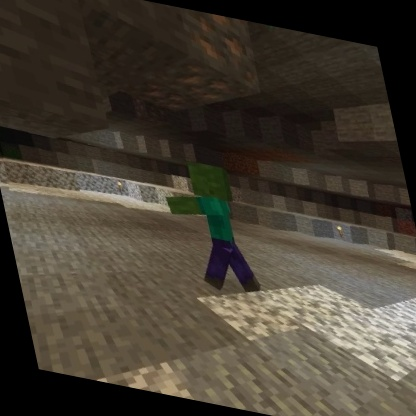zombie: (153, 151, 268, 303)
